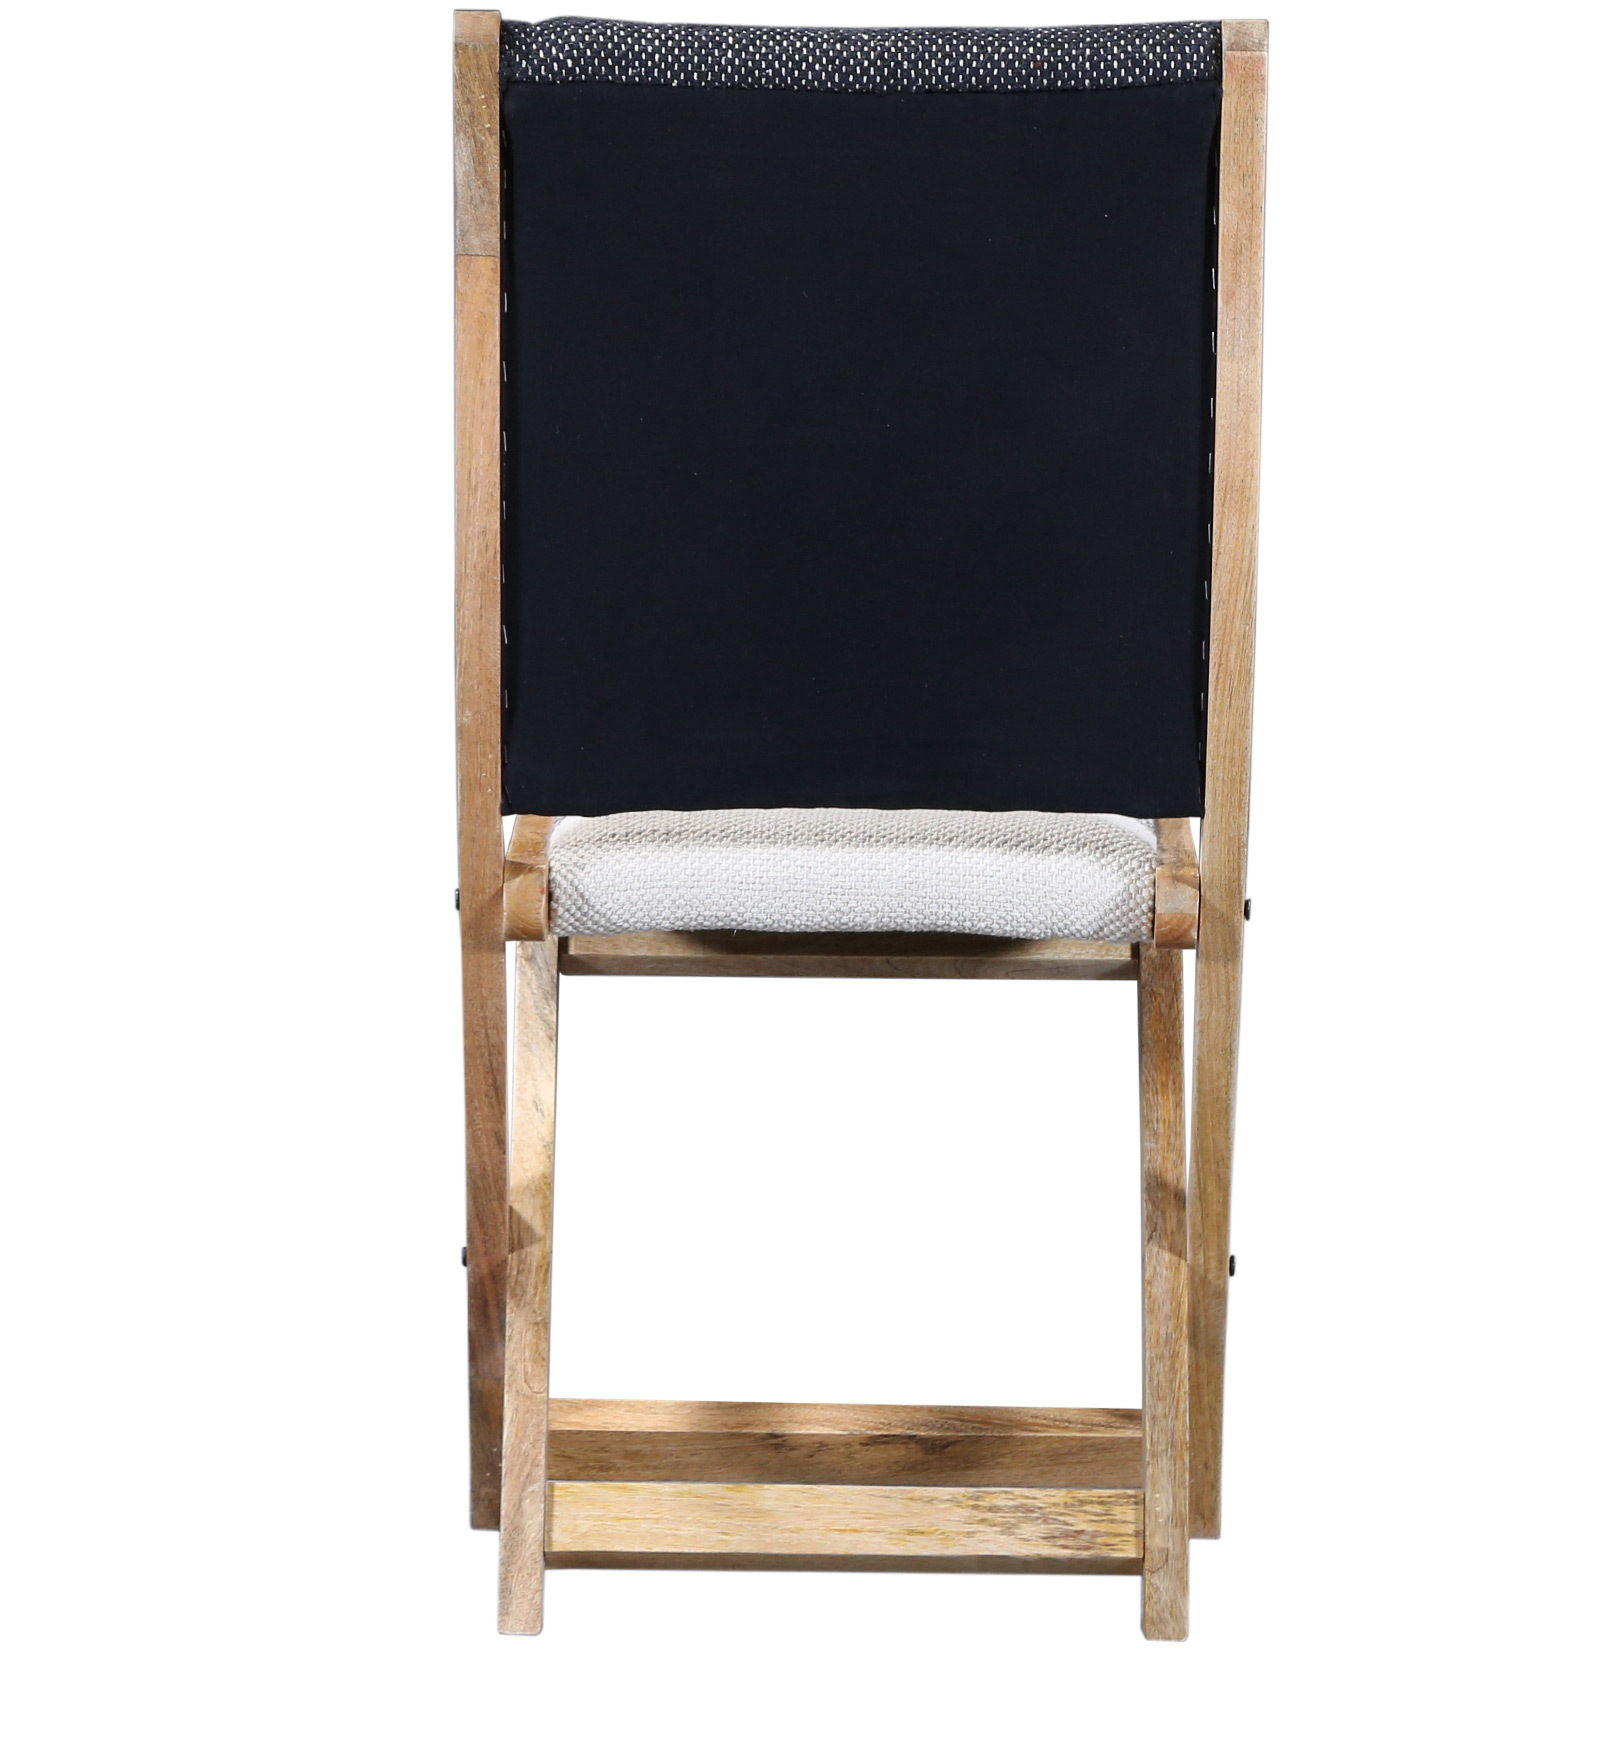Horan Folding Chair by Bohemiana: (417, 2, 1330, 1702)
